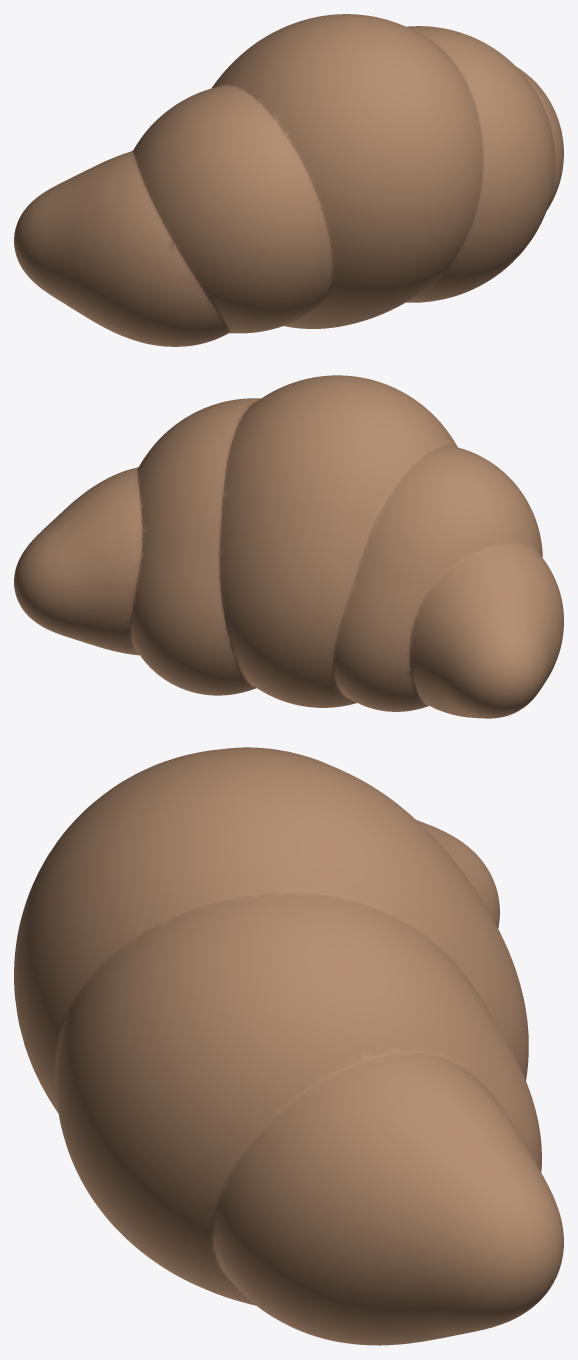
File: croissant-transformed.glb
3 renders of one model, top to bottom at view 1: azimuth 30°, elevation 25°; view 2: azimuth 150°, elevation 25°; view 3: azimuth 270°, elevation 25°, orthographic. The views are drawn at different scales.
Parts seen in each view (by area): view 1: baked-goods; view 2: baked-goods; view 3: baked-goods.
Part boxes in pixels (x1,y1,x2,y2): baked-goods: (14,14,563,346); baked-goods: (14,375,563,718); baked-goods: (14,747,563,1345).
Size of the model in its own units: 44.19 by 24.33 by 25.65.
Materials: 1 (1 with a texture image).
